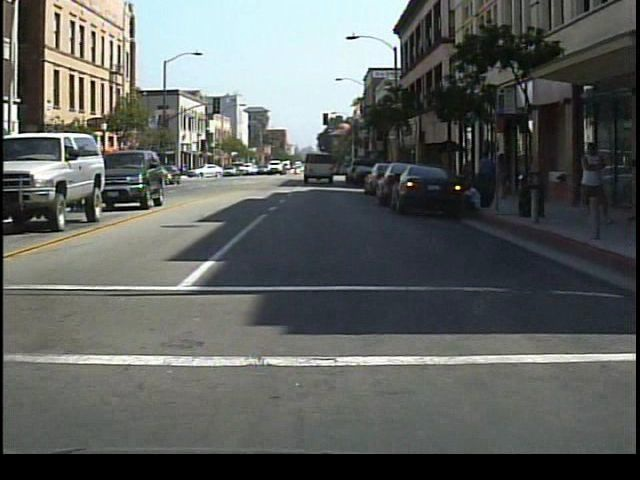person: (575, 132, 611, 237), (493, 148, 516, 208), (476, 141, 498, 202)
